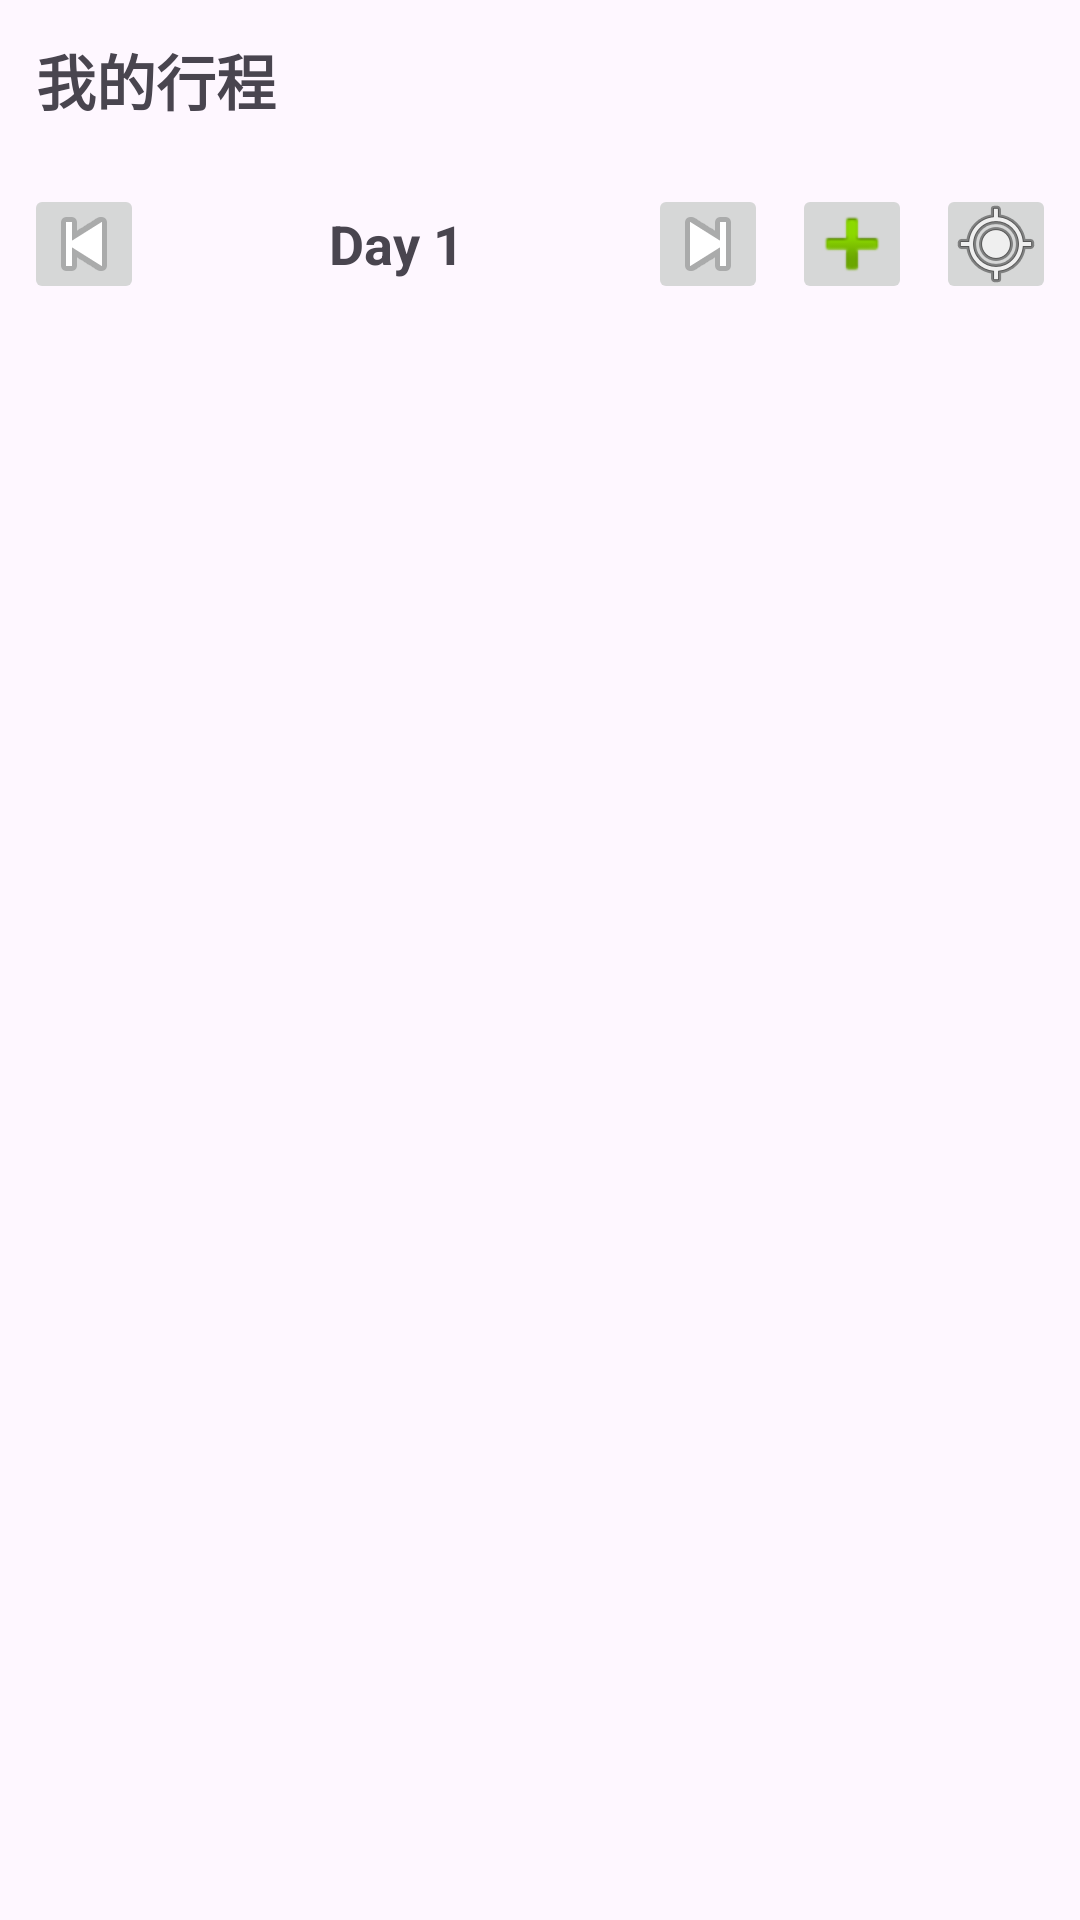

Named icons in this screenshot (1080w x 1920h) and their centers, [x,y]:
上一天: [84,244]
下一天: [708,244]
